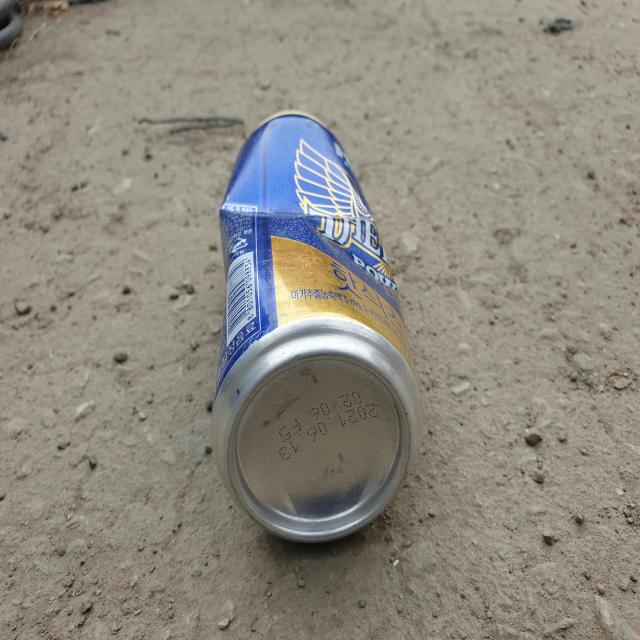can: (211, 111, 423, 542)
